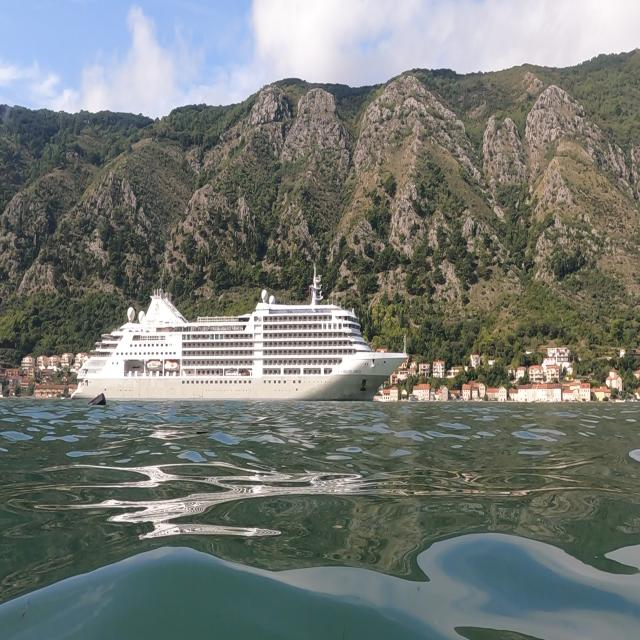boat: (70, 292, 420, 411)
buoy: (86, 389, 110, 418)
